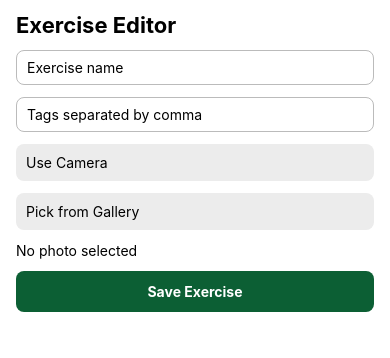
Scenario: ExerciseEditorScreen › shows validation error when exercise name is empty
Click the button "Save Exercise".
click(195, 292)  # box [16,271,374,312]
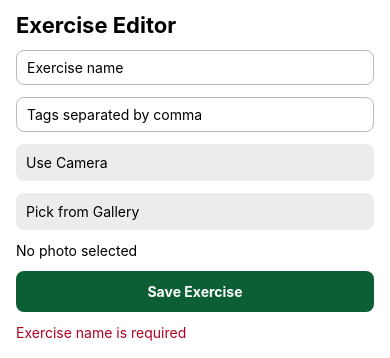
expect the text "Exercise name is required" is shown: met, box [16,324,186,341]
